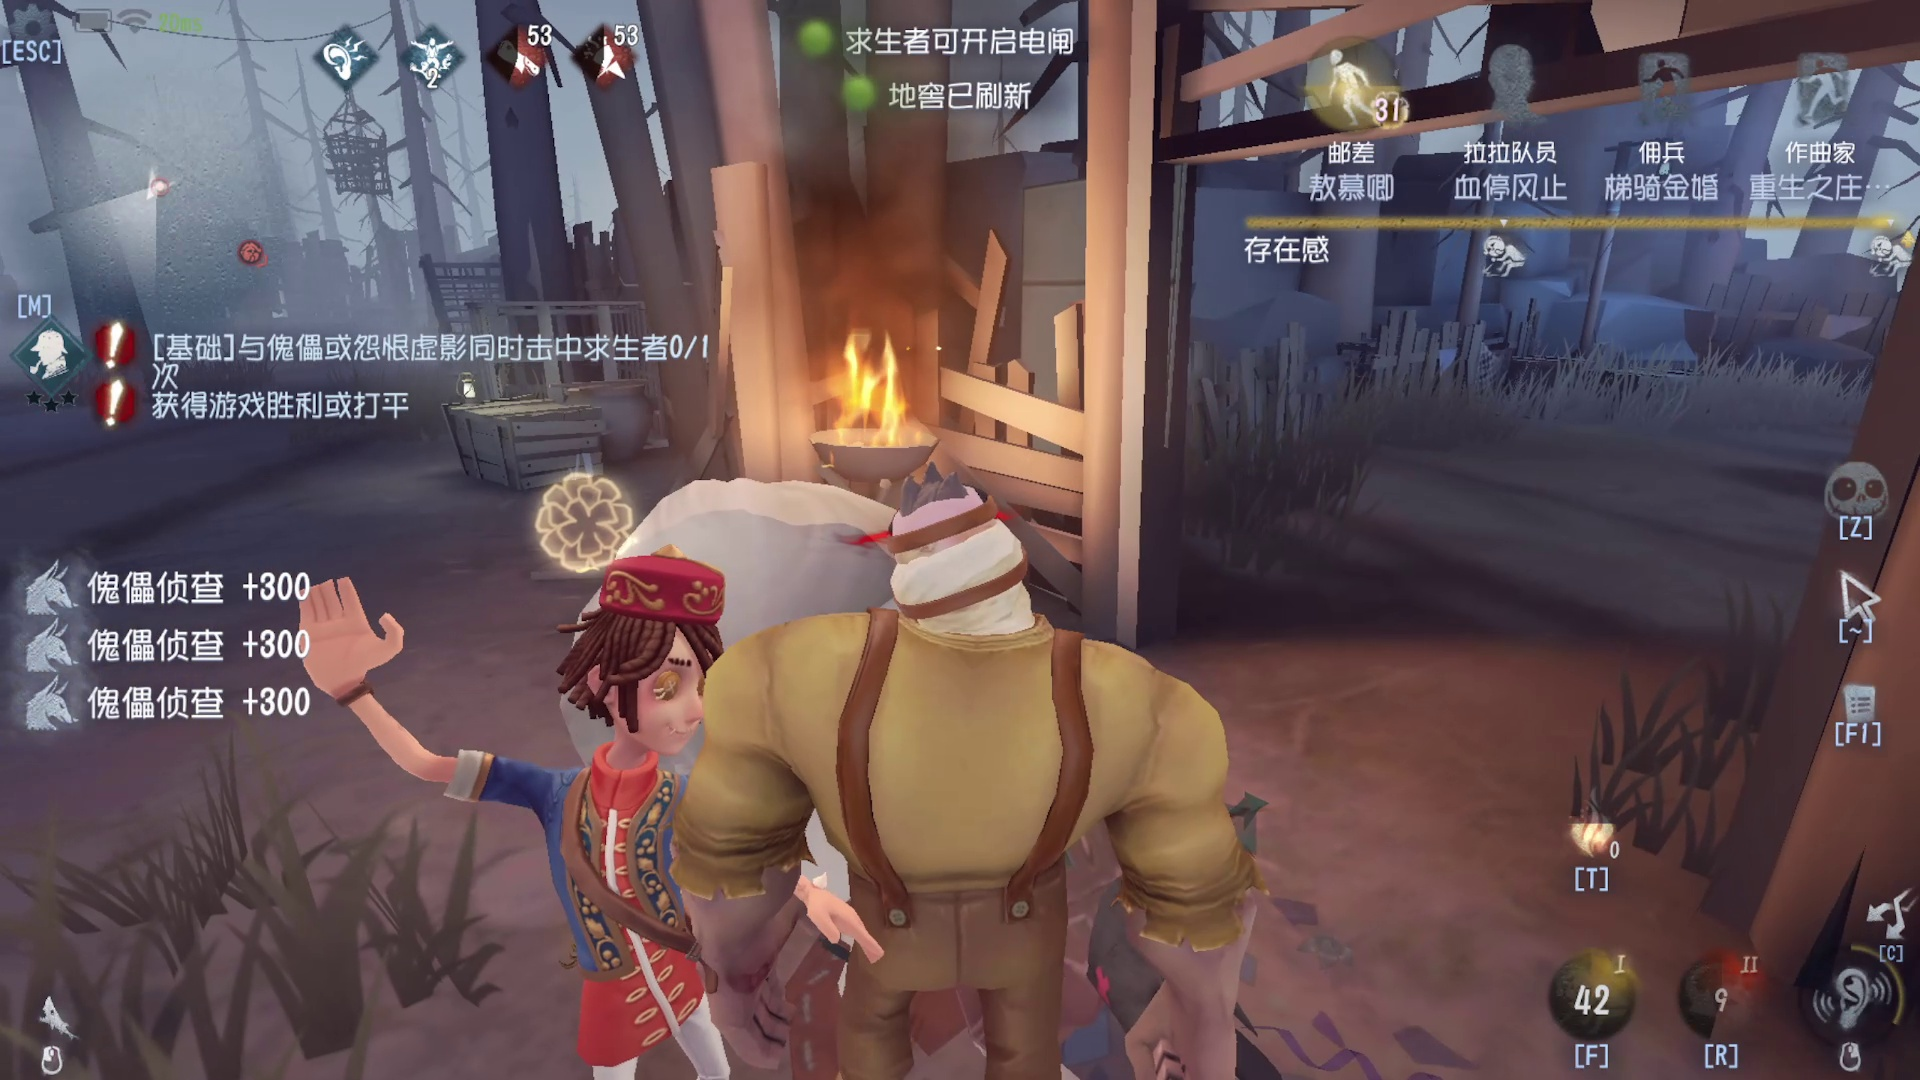求生者: (375, 531, 707, 1054)
设置: (1, 1, 73, 79)
